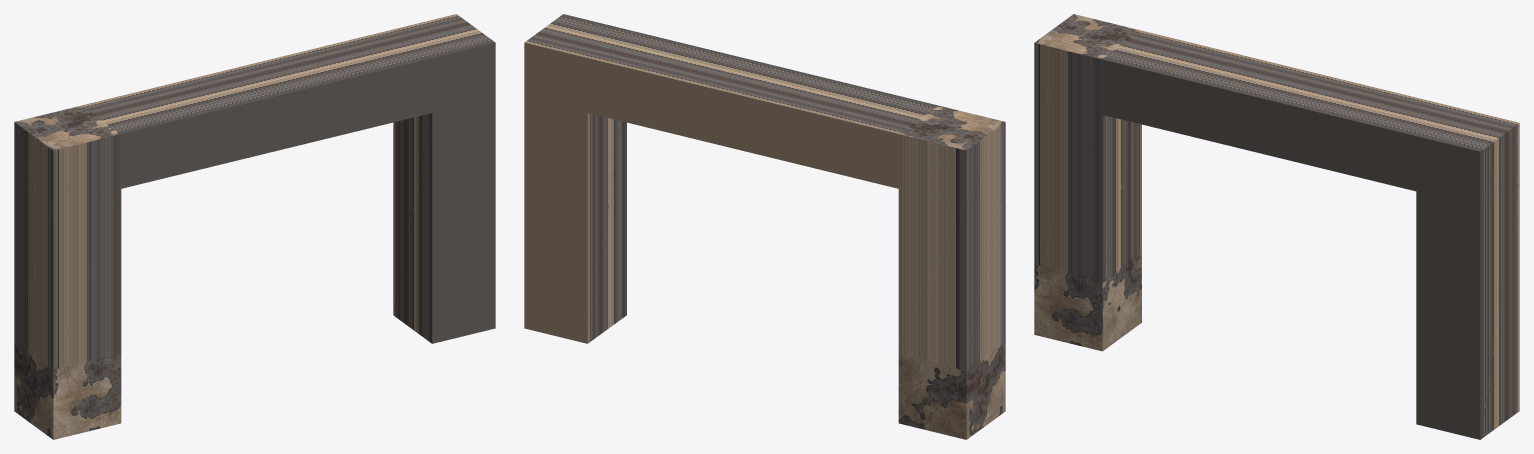
File: columnaViga.fbx
3 renders of one model, left to right at view 1: azimuth 30°, elevation 25°; view 2: azimuth 150°, elevation 25°; view 3: azimuth 330°, elevation 25°, orthographic.
Visible parts, largest first — view 1: Cube; view 2: Cube; view 3: Cube.
Boxes of the visible parts, x1,y1,x2,y2 form: Cube: (14, 14, 495, 439); Cube: (524, 14, 1005, 439); Cube: (1034, 14, 1519, 439).
Size of the model in its own units: 1305 by 816 by 200.
